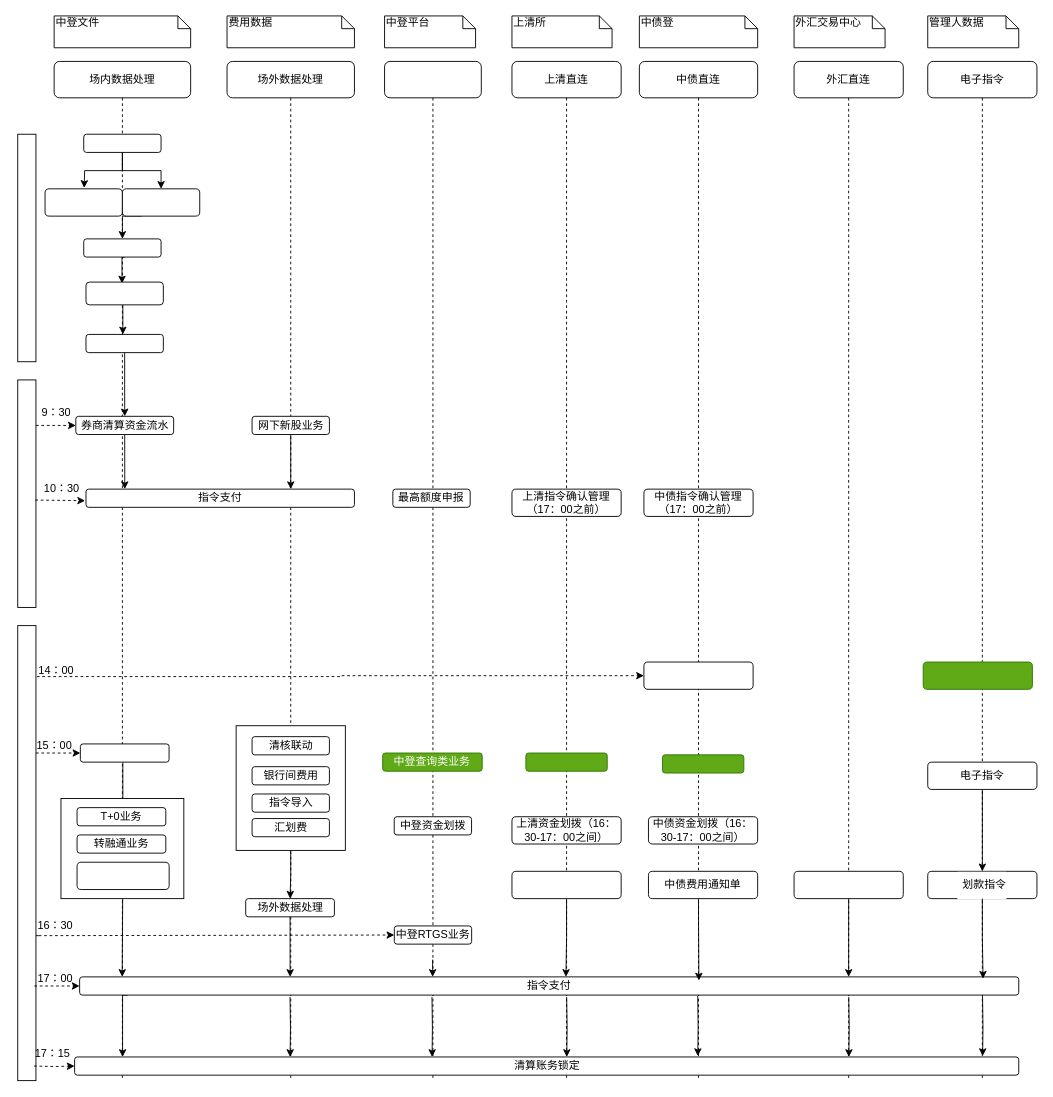
Image size: 1053x1097. Some labels were removed from this diagram. Each missing label, with the box of its shape:
T 日 18 ： 30 后: (17, 133, 36, 362)
T+1 日 上 午: (17, 379, 36, 607)
T+1 日 下 午: (17, 625, 36, 1081)
上清查询类业务: (525, 752, 607, 771)
上清费用通知单: (511, 870, 621, 899)
两金调整及结息: (121, 188, 200, 216)
中债查询类业务: (662, 754, 744, 773)
中债转托管业务: (643, 661, 753, 689)
中登直连: (384, 61, 481, 1081)
外汇交易缴费通知单: (793, 870, 903, 899)
数据处理: (83, 238, 161, 257)
数据核对: (85, 334, 163, 353)
数据读取: (83, 133, 161, 152)
流水、指令、交易量: (85, 281, 163, 305)
港股通日历优化业务: (76, 861, 169, 890)
管理人查询类业务: (922, 661, 1032, 689)
股息红利税检查: (44, 188, 122, 216)
股息红利税申报: (79, 743, 169, 762)
